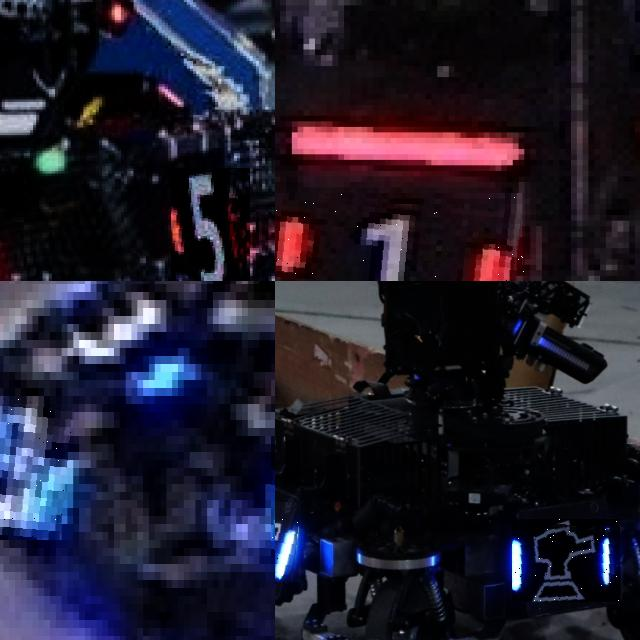B3: (0, 396, 73, 540)
Bs: (512, 519, 620, 602), (275, 501, 302, 582)
R1: (275, 193, 524, 281)
R5: (171, 168, 249, 281)
